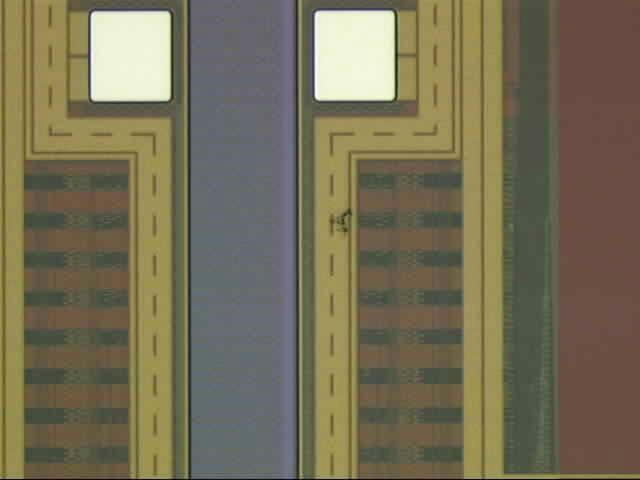PIQ PARTICLE: (332, 205, 357, 239)
